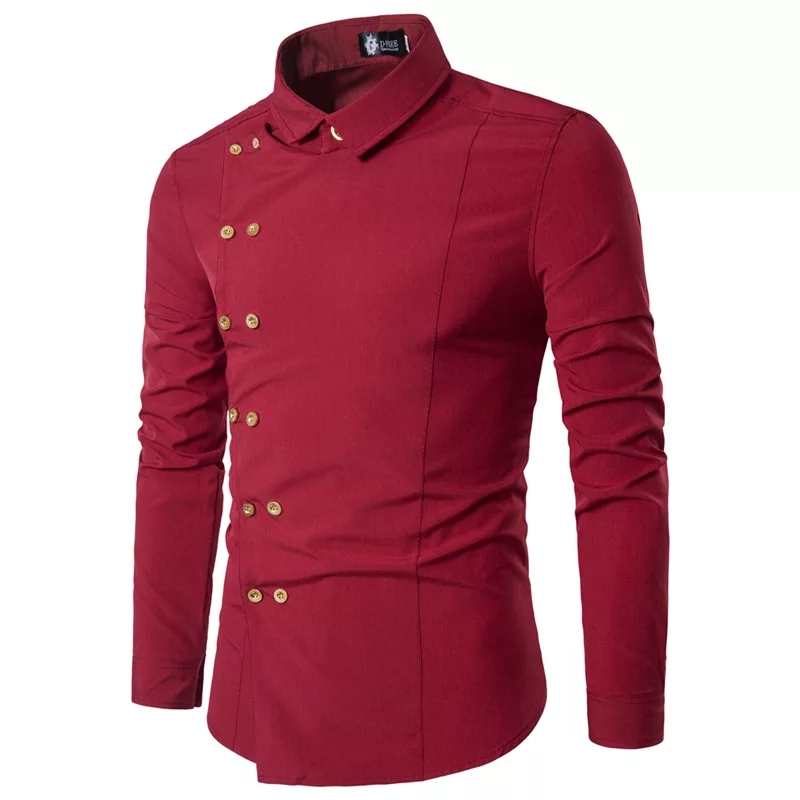shirts: (128, 11, 665, 788)
